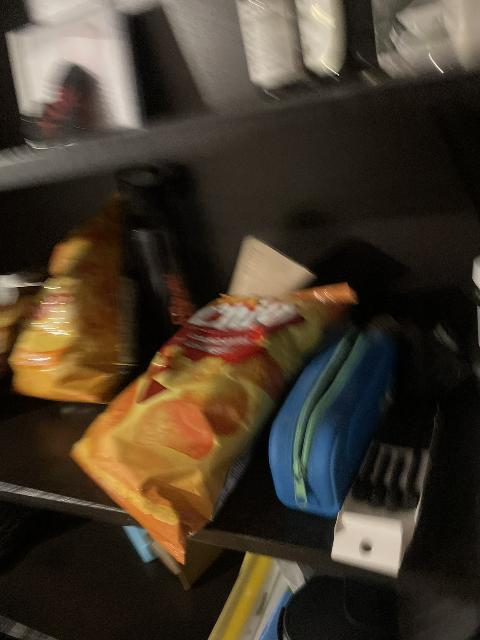Chio Cascaval 125g: (68, 283, 354, 569)
Chio Hula Hoops Cheese 70g: (5, 194, 141, 402)
